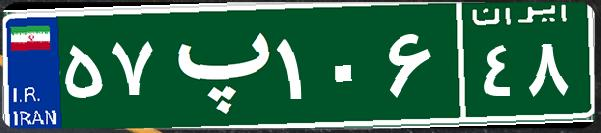0: (330, 28, 385, 110)
1: (273, 28, 330, 110)
4: (475, 38, 525, 113)
5: (57, 26, 110, 107)
6: (385, 28, 445, 110)
7: (110, 28, 158, 105)
8: (525, 38, 570, 115)
پ: (158, 15, 273, 115)
